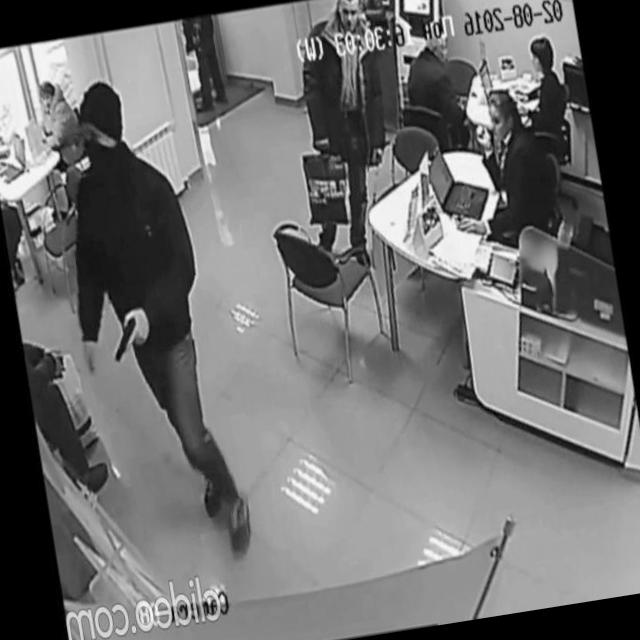gun: (106, 314, 143, 366)
person: (275, 0, 412, 278), (436, 80, 563, 258)
person with a gun: (40, 67, 257, 582)
